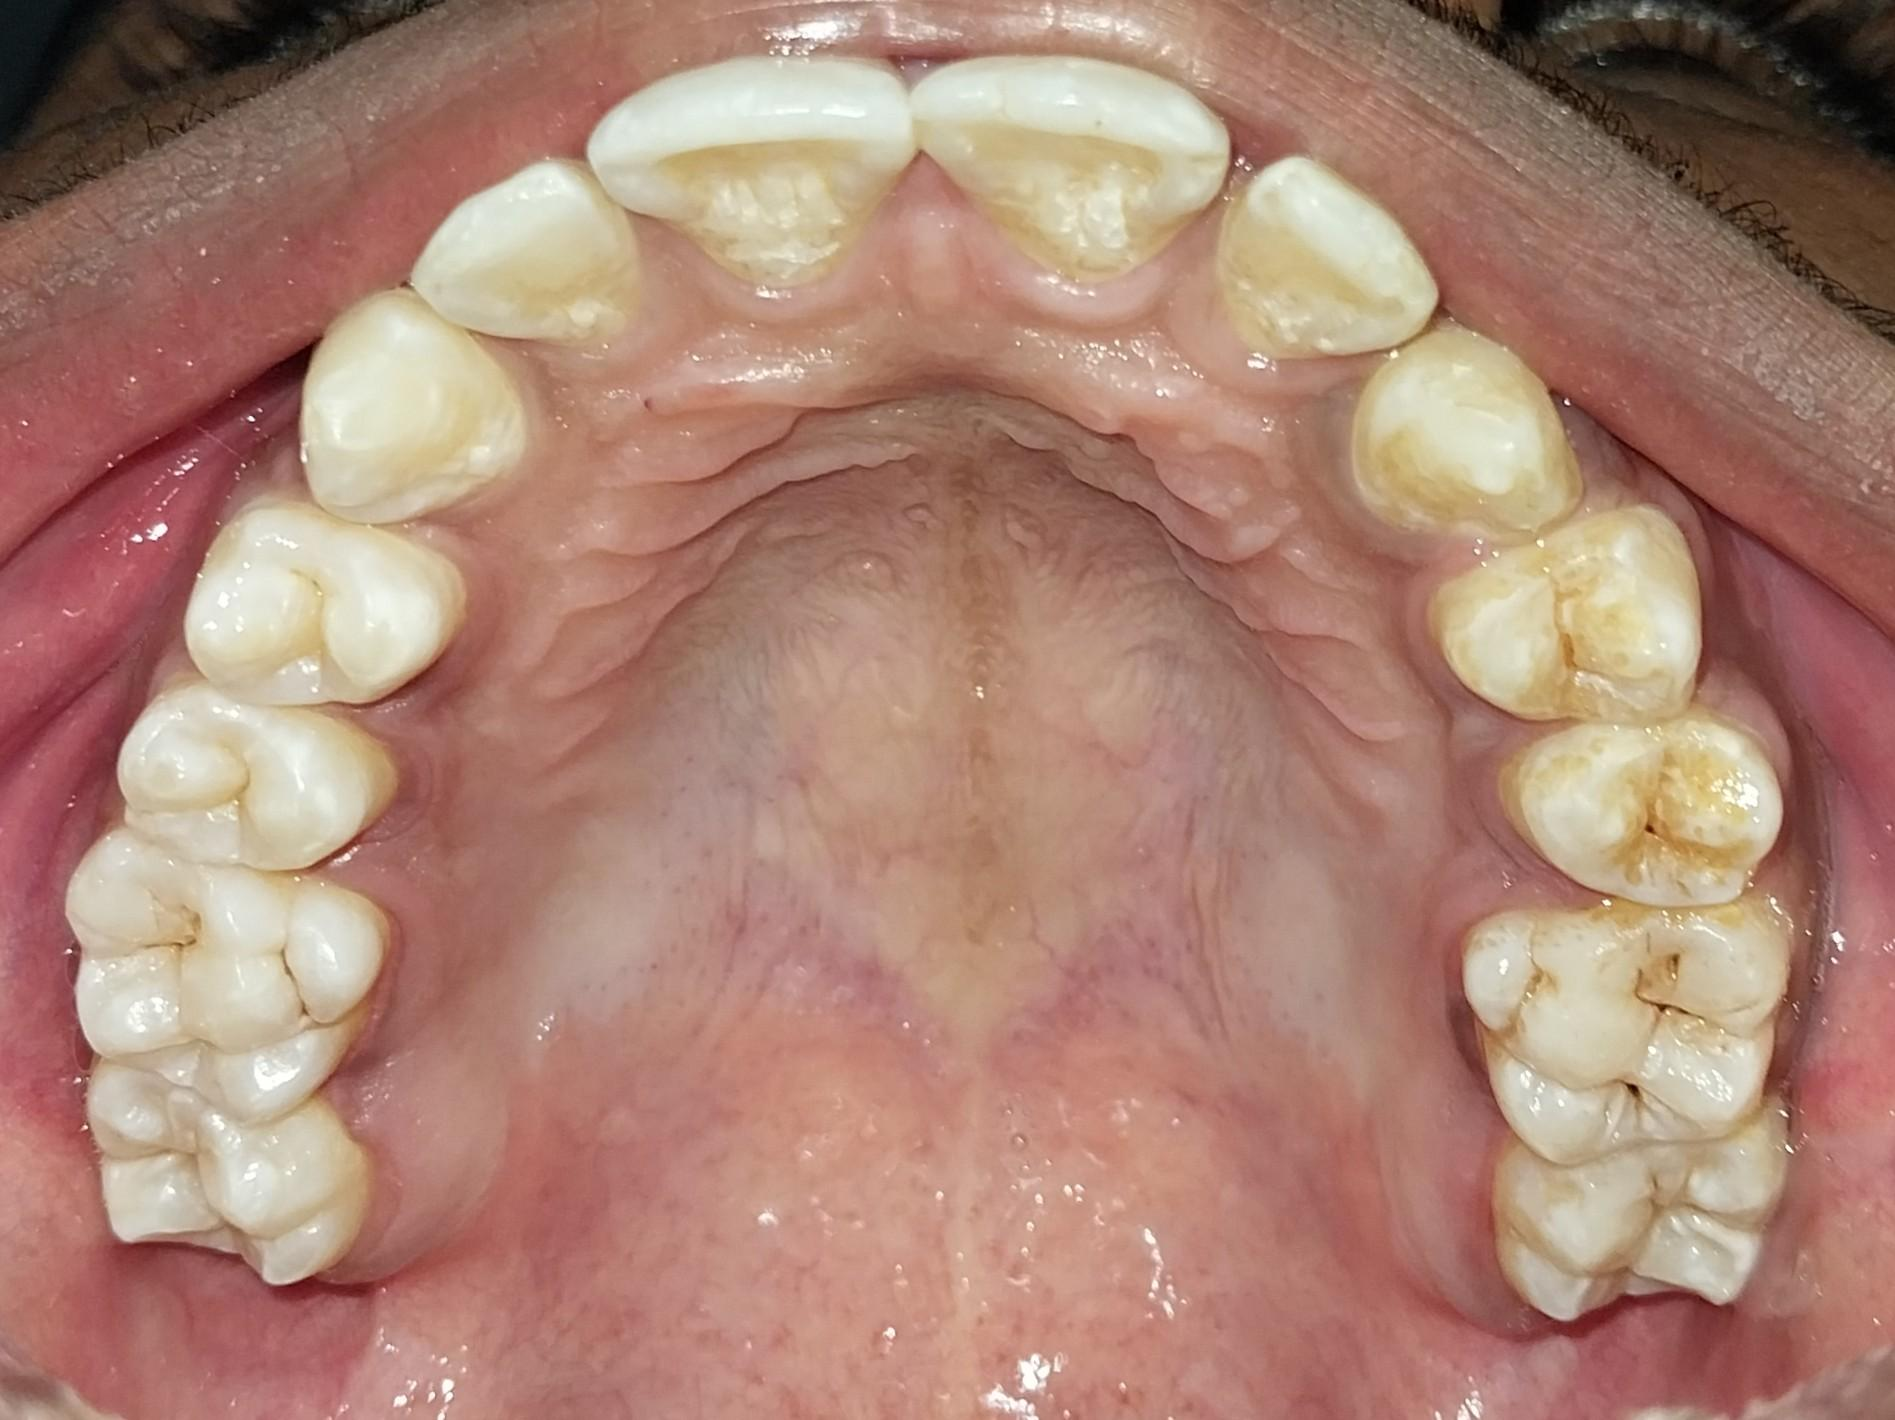D: (1463, 898, 1786, 1164), (1502, 716, 1784, 913)
